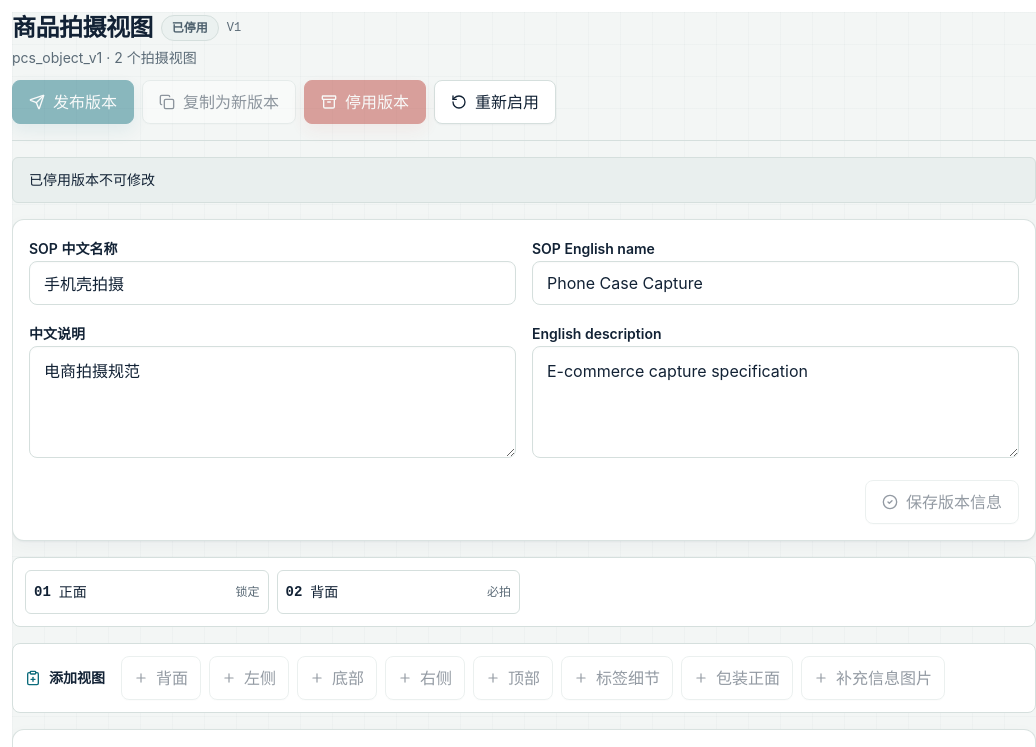
SOPVersionEditor › re-enables an archived version without changing its identity or version number
Click the button "重新启用" at (495, 102), box [434,80,556,124]
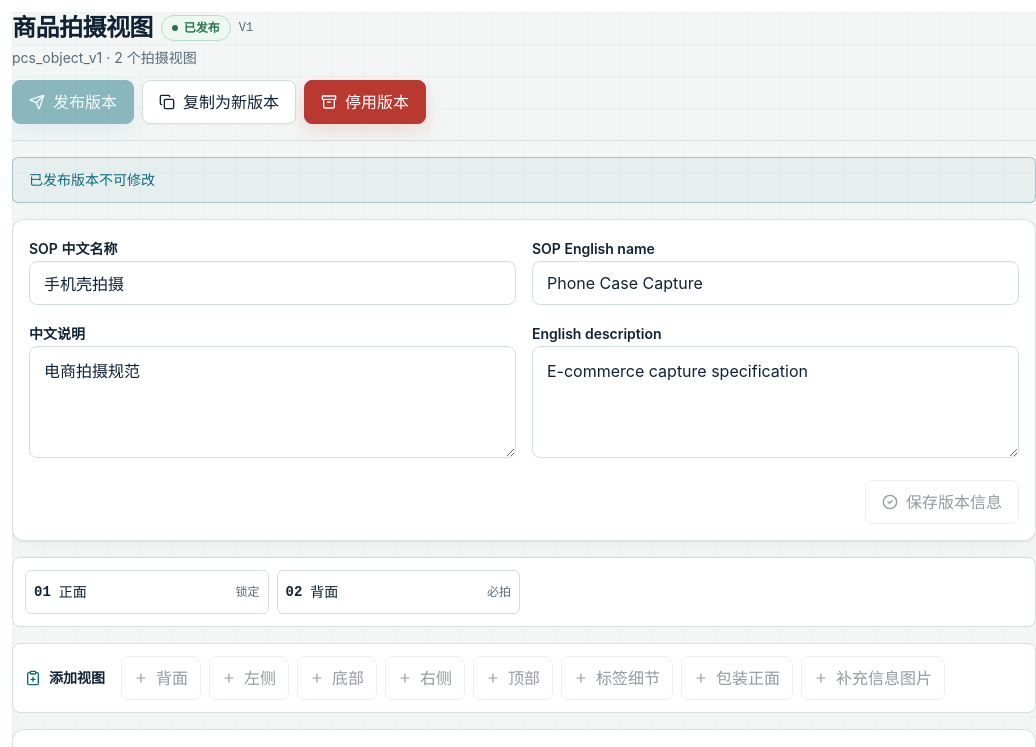
Expected: the text "已发布版本不可修改" is shown, [12,157,1035,203]
Expected: the button "重新启用" is gone
Expected: the button "停用版本" is enabled, [304,80,426,124]
